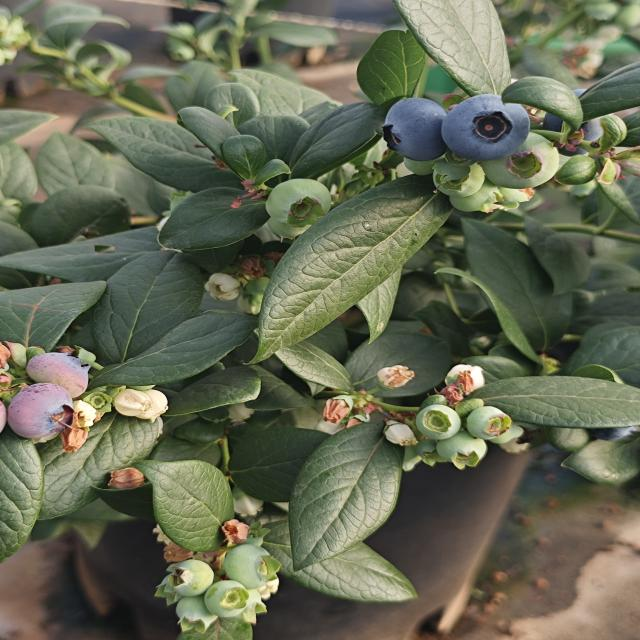ripe: (439, 92, 532, 164), (379, 95, 449, 163)
